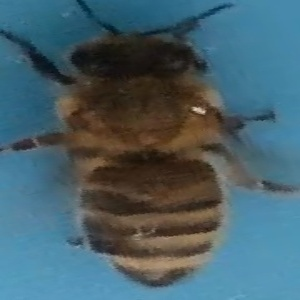bee: (3, 2, 300, 290)
